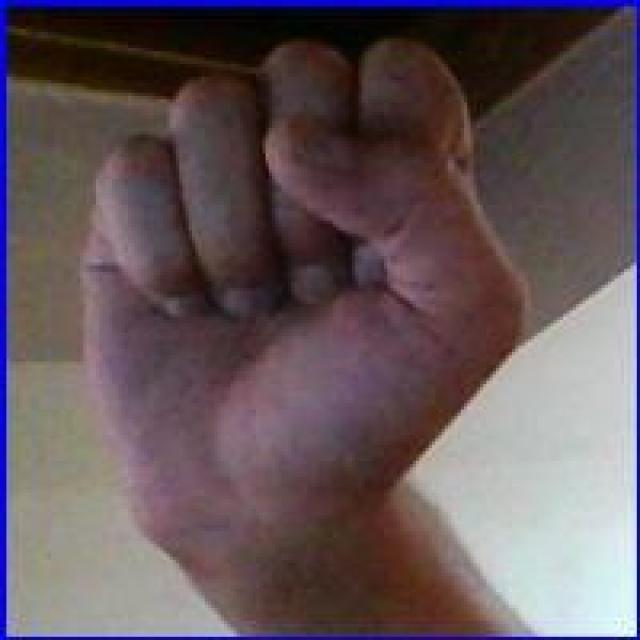S: (77, 31, 531, 546)
